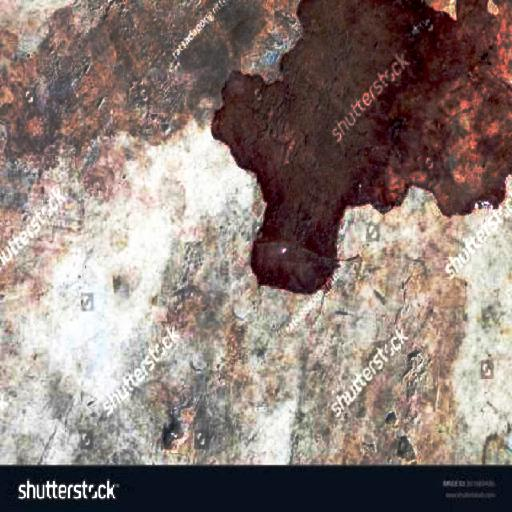corrosion: (197, 0, 512, 301)
